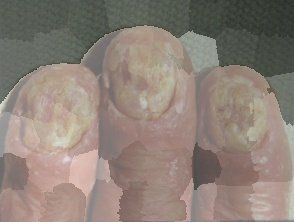Nail_psoriasis: (0, 64, 104, 173), (189, 62, 287, 175), (100, 22, 194, 136)
